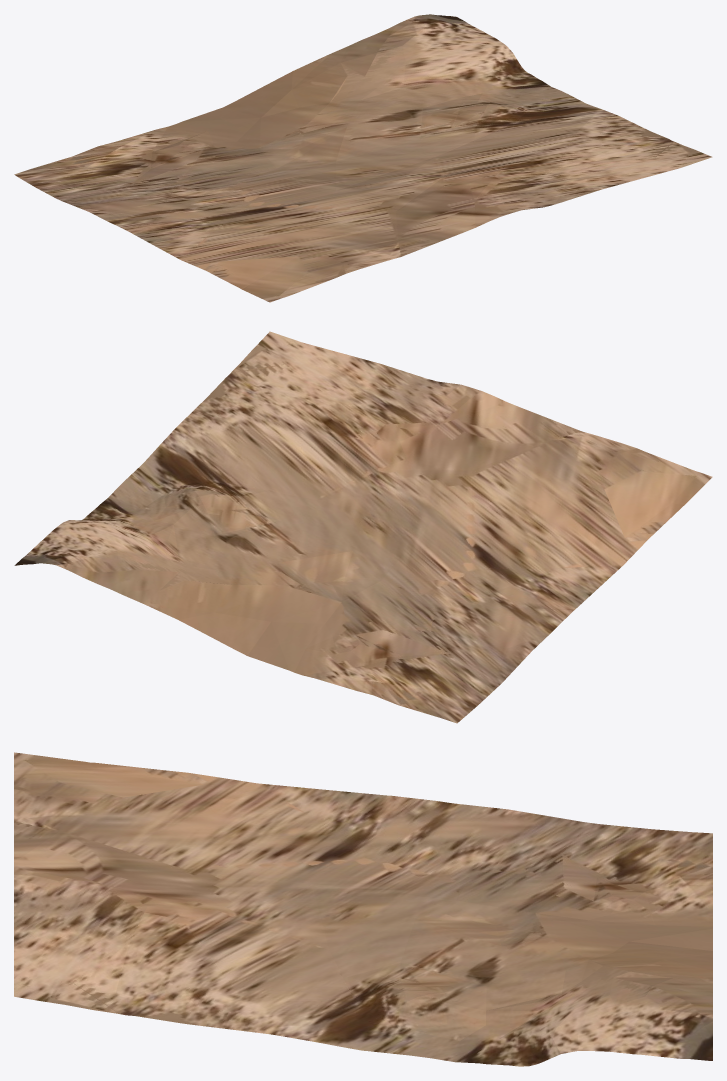
The picture shows the model from 3 angles, top to bottom: view 1: azimuth 30°, elevation 25°; view 2: azimuth 150°, elevation 25°; view 3: azimuth 270°, elevation 25°; orthographic projection. The views are drawn at different scales.
Bounding box in the file's own units: 2.09 × 0.4356 × 2.09.
Materials: 2 (2 with a texture image).
